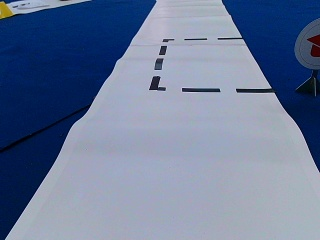school: (294, 17, 319, 67)
